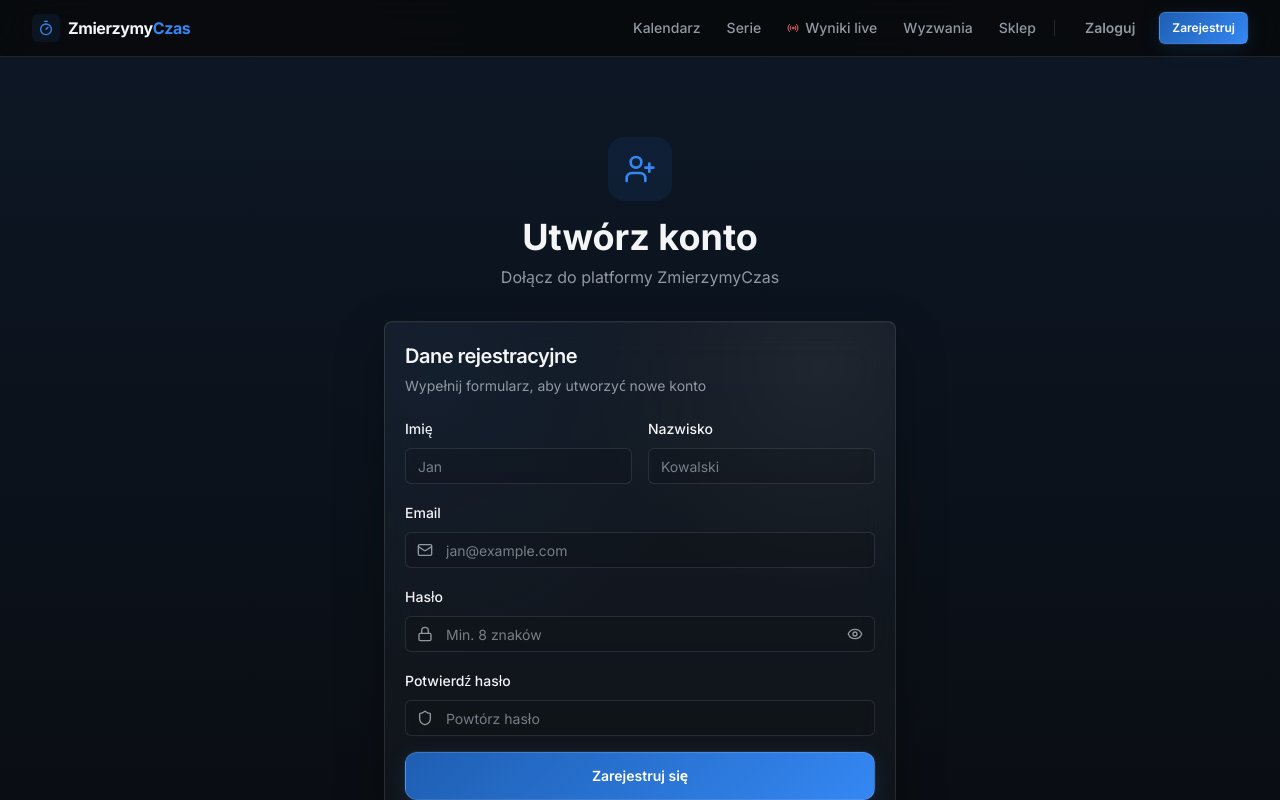
Test: RegisterPage › pokazuje błąd gdy imię ma mniej niż 2 znaki
This screenshot has width=1280, height=800.
In the field with placeholder "Jan": (518, 466) [405,448,632,484], type "J"
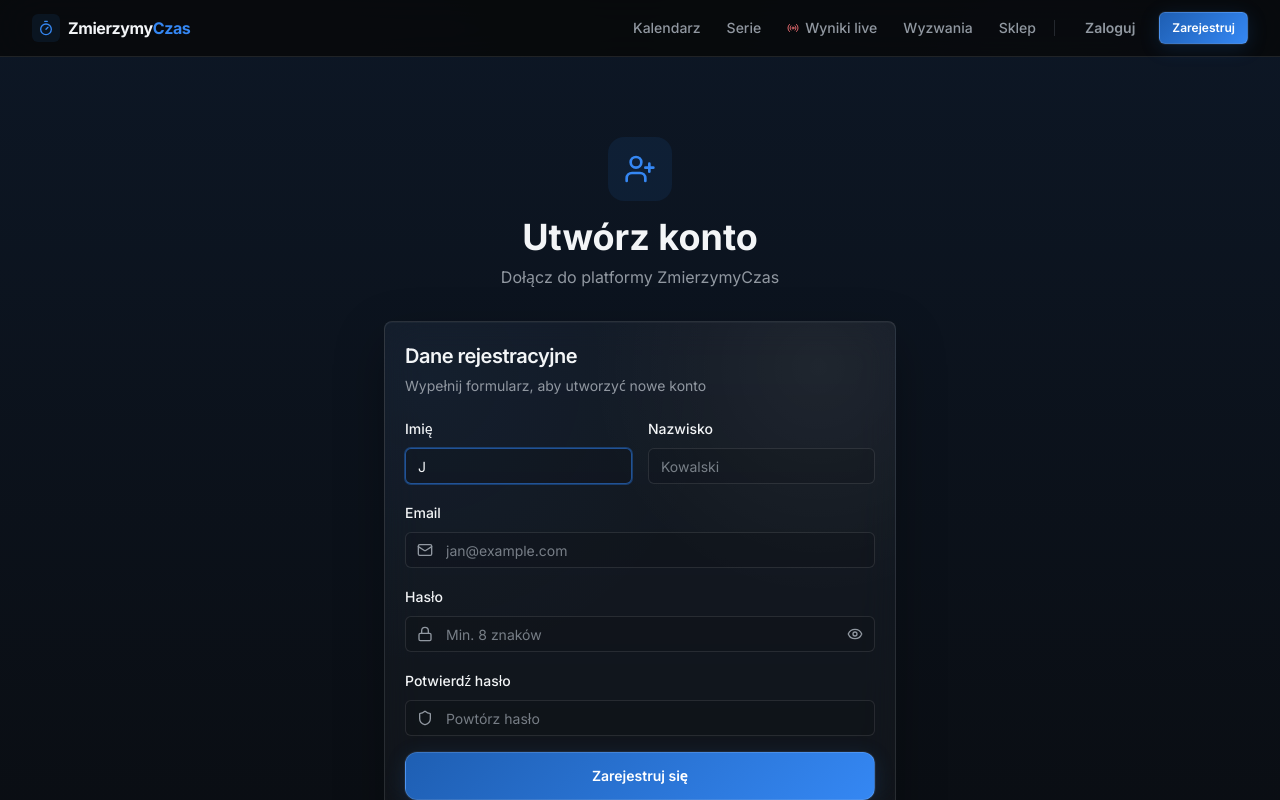
Click the button "Zarejestruj się": (640, 776) [405,752,875,799]
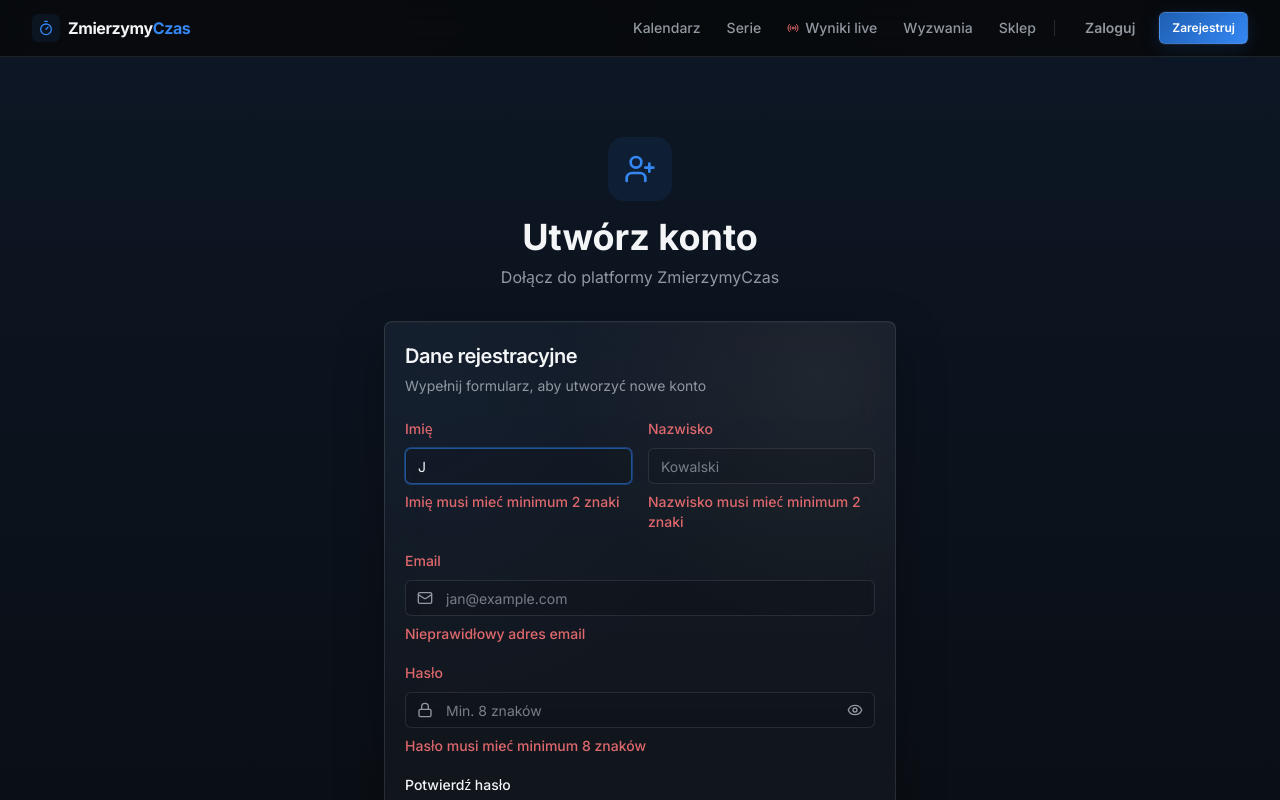
Result: the text "Imię musi mieć minimum 2 znaki" is shown at [405,492,632,512]
